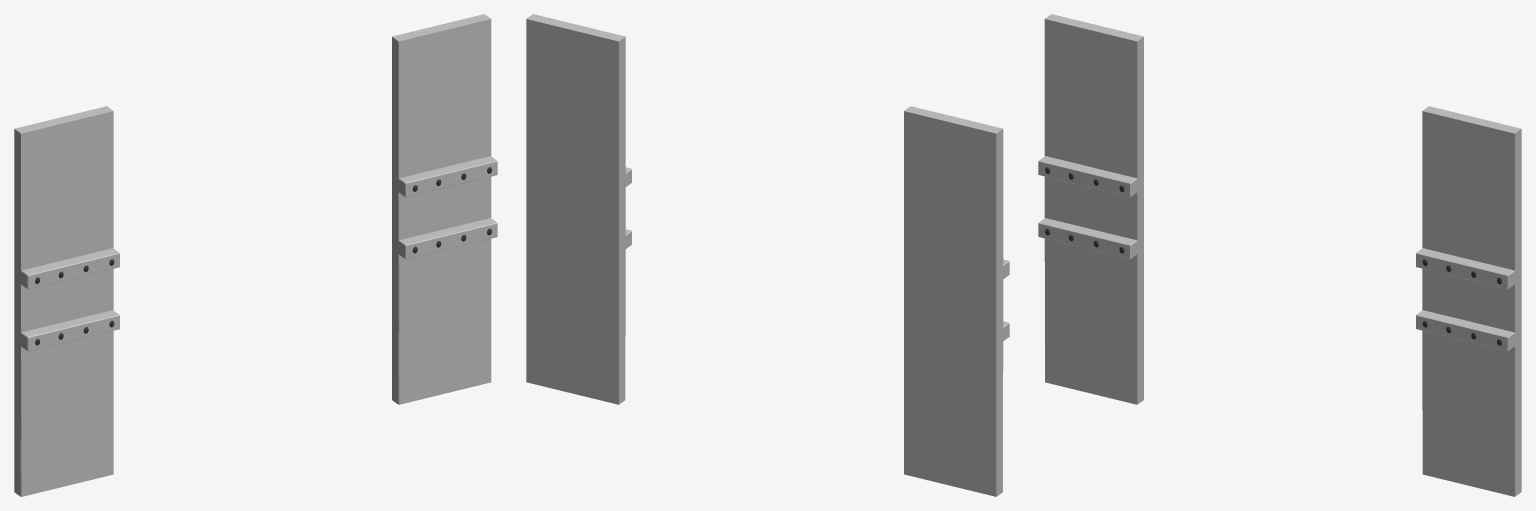
Rendered from SM_SJJ_HG_Wall05B.fbx.
3 renders of one model, left to right at view 1: azimuth 30°, elevation 25°; view 2: azimuth 150°, elevation 25°; view 3: azimuth 330°, elevation 25°, orthographic.
Parts seen in each view (by area): view 1: SM_SJJ_HG_Wall05B; view 2: SM_SJJ_HG_Wall05B; view 3: SM_SJJ_HG_Wall05B.
Part boxes in pixels (bbox=[...]): SM_SJJ_HG_Wall05B: bbox=[14, 14, 497, 496]; SM_SJJ_HG_Wall05B: bbox=[526, 14, 1009, 496]; SM_SJJ_HG_Wall05B: bbox=[1038, 14, 1521, 496].
Size of the model in its own units: 221 by 11.61 by 163.
